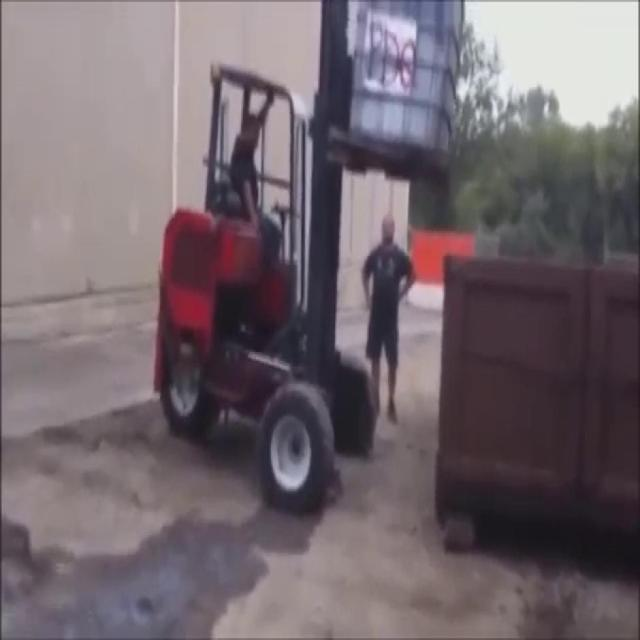forklift: (151, 0, 463, 510)
person: (354, 197, 424, 447), (215, 67, 287, 244)
